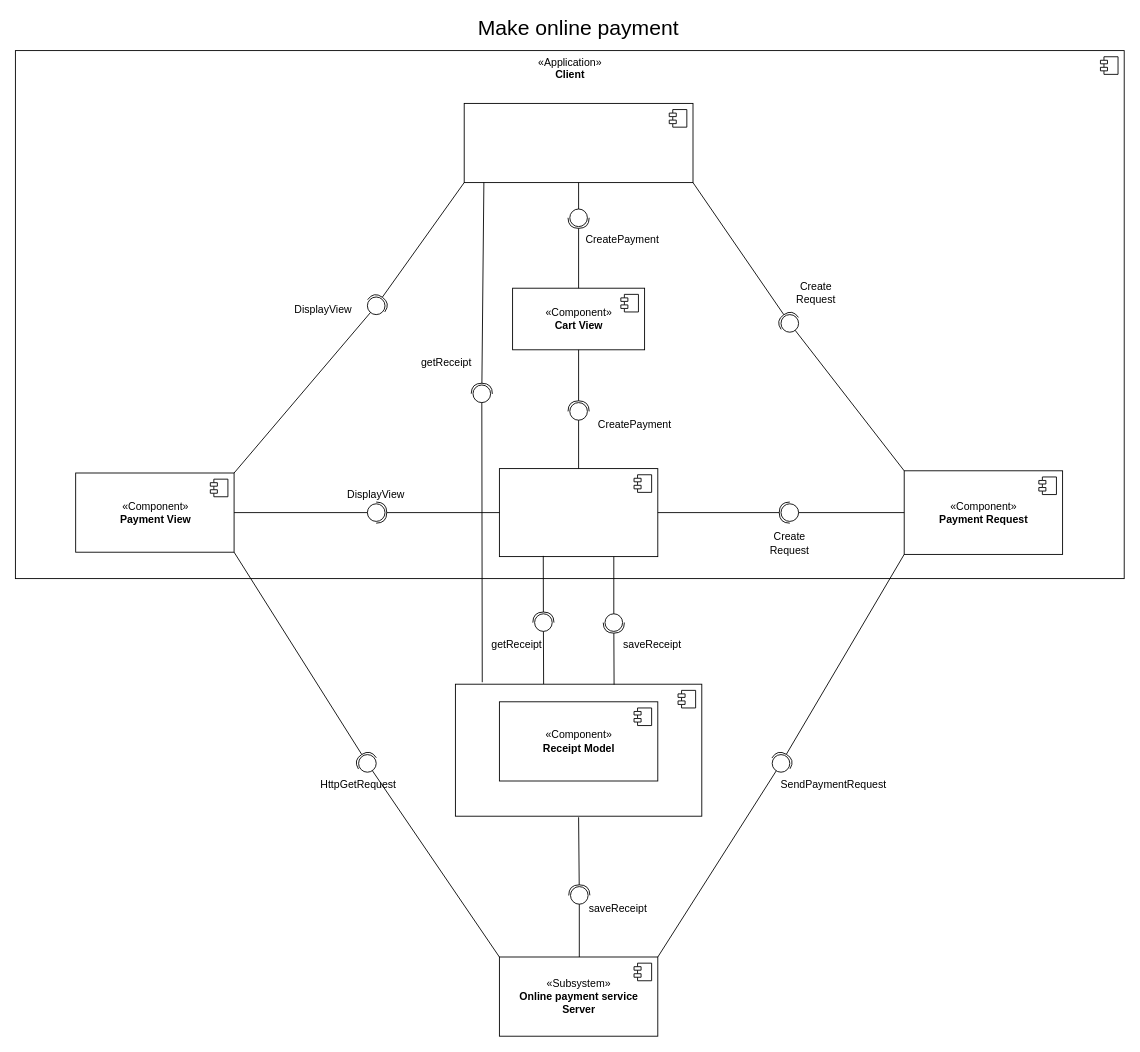
Image size: 1140x1052. Some labels were removed from this diagram. Here are the shapes that lost their labels. From the top down, the box of each, then its label:
(463, 103, 693, 183): «Component» Online Payment Controller
(499, 468, 658, 557): «Component» Offline Payment Controller
(455, 683, 702, 816): «Component» Sever
